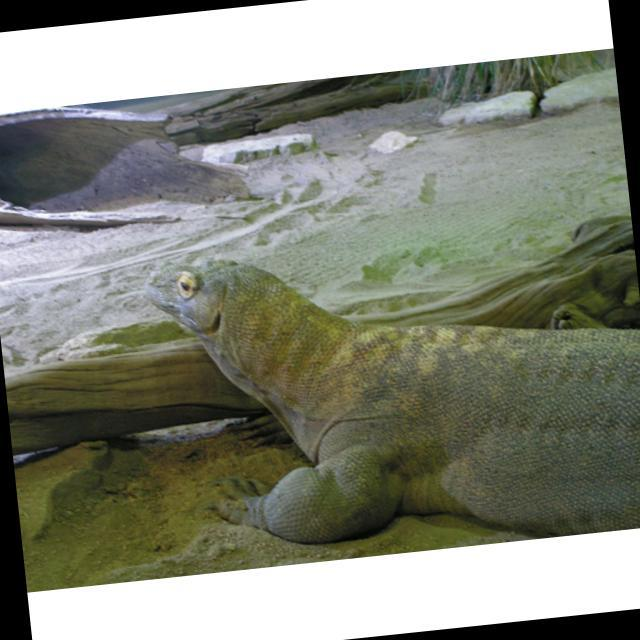KomodoDragon: (139, 212, 640, 574)
